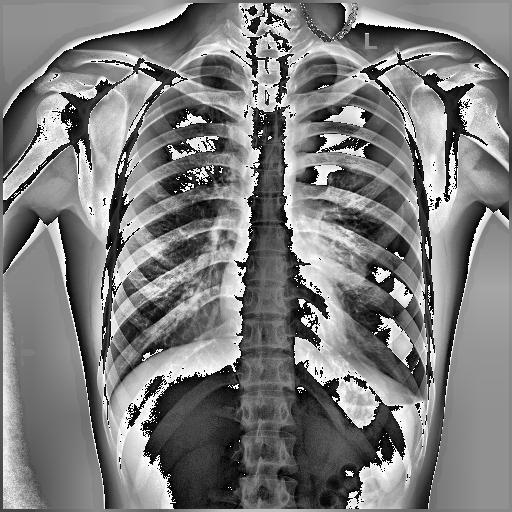10- Pleural effusion: (414, 390, 434, 410)
11- Pleural thickening: (414, 390, 434, 410)
12- Pneumothorax: (290, 53, 428, 399), (290, 50, 428, 396), (294, 56, 428, 396)
